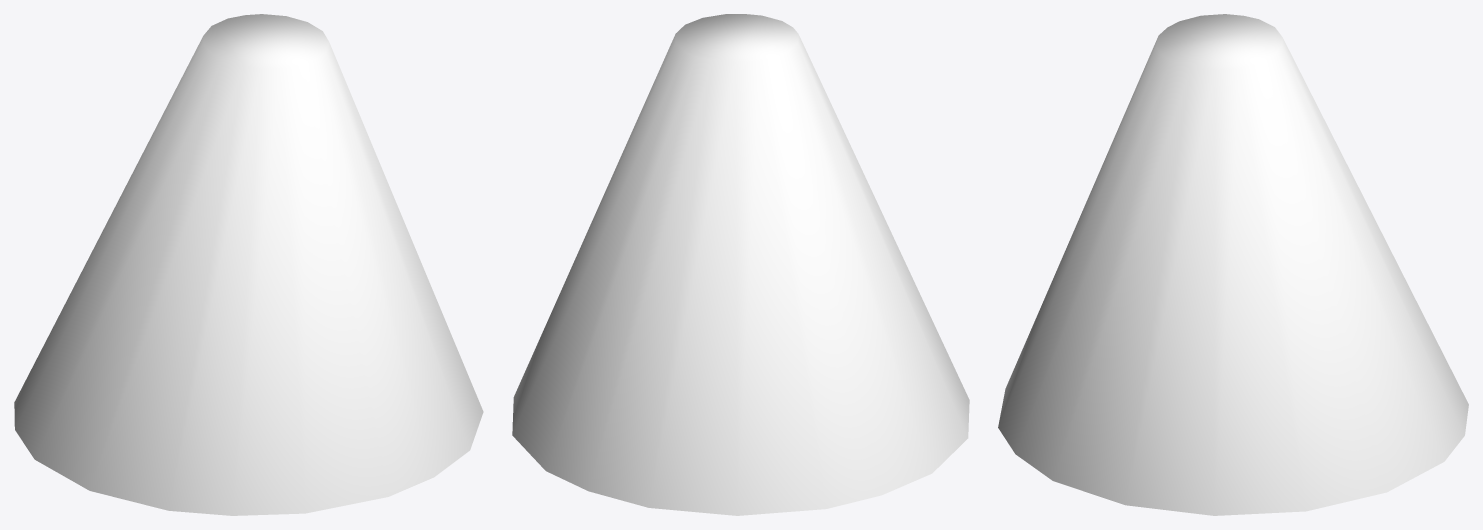
File: SunRay_01a.fbx
The picture shows the model from 3 angles, left to right: view 1: azimuth 30°, elevation 25°; view 2: azimuth 150°, elevation 25°; view 3: azimuth 270°, elevation 25°; orthographic projection.
Visible parts, largest first — view 1: Light_Shaft_01; view 2: Light_Shaft_01; view 3: Light_Shaft_01.
Boxes of the visible parts, x1=… form: Light_Shaft_01: x1=14, y1=14, x2=483, y2=515; Light_Shaft_01: x1=512, y1=14, x2=969, y2=515; Light_Shaft_01: x1=998, y1=14, x2=1468, y2=515.
Bounding box in the file's own units: 193 × 172 × 192.
